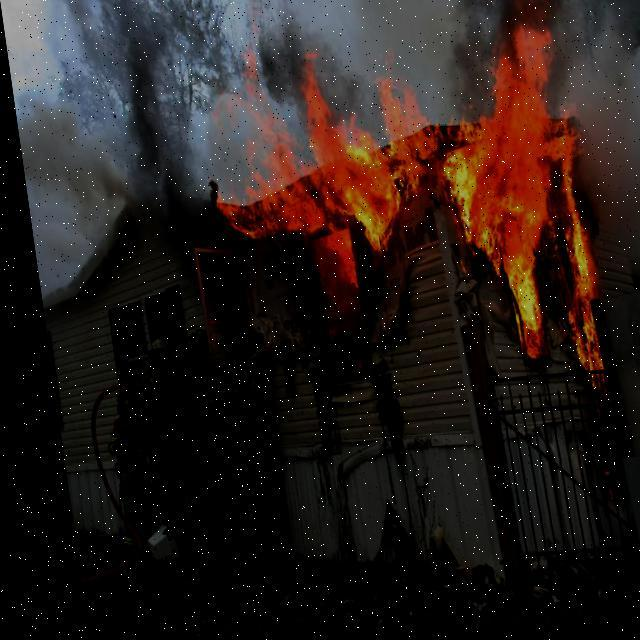Fire: (190, 0, 610, 435)
